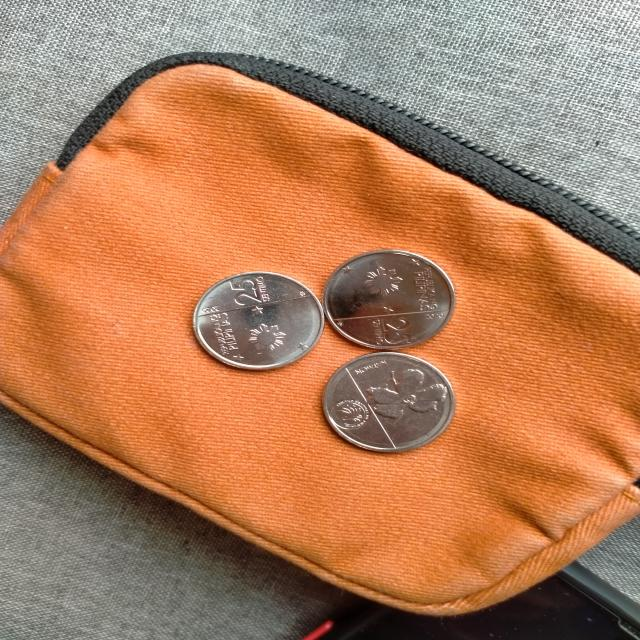25Cent_New_Back: (360, 362, 444, 426)
25Cent_New_Front: (218, 277, 279, 313), (368, 317, 423, 346)
